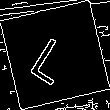L_NE: (29, 25, 81, 85)
